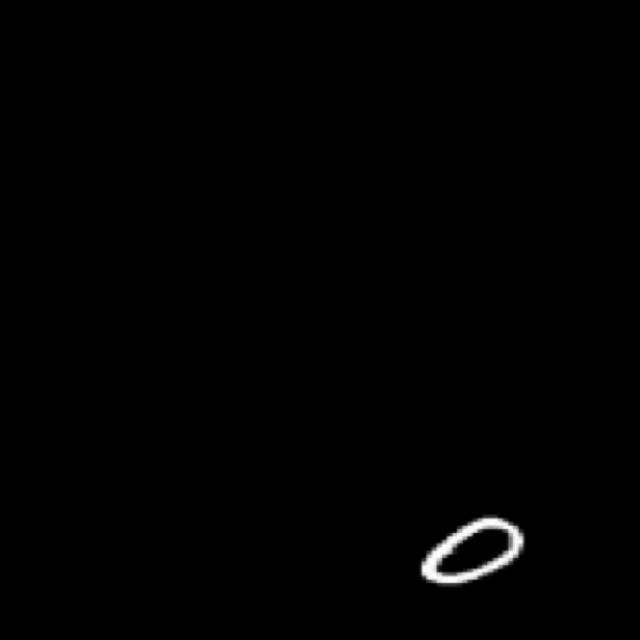zero -0-: (398, 504, 552, 594)
